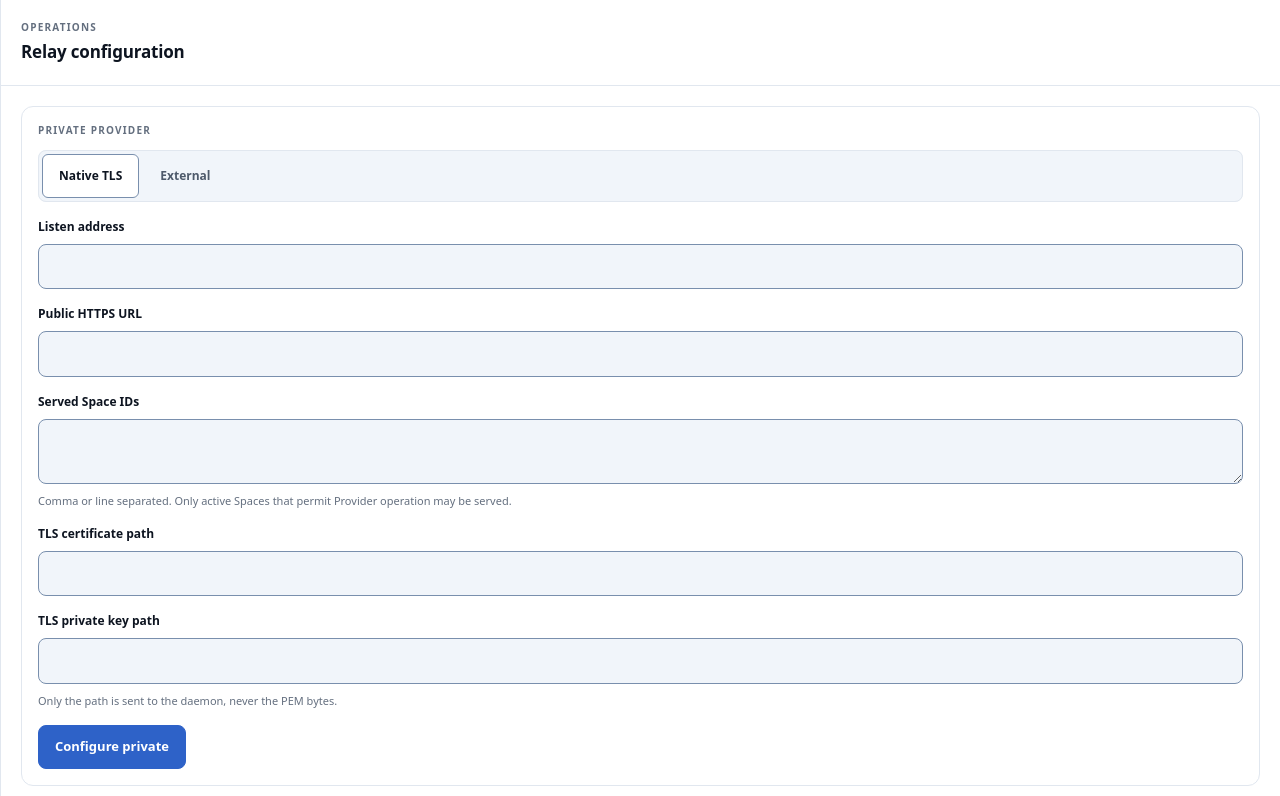
Test case: external termination hides the TLS path fields instead of ignoring them silently
The width and height of the screenshot is (1280, 796).
Expected: the field labelled "TLS private key path" is shown, [38,638,1243,684]
Click the button "External": point(185, 176) [143,154,228,198]
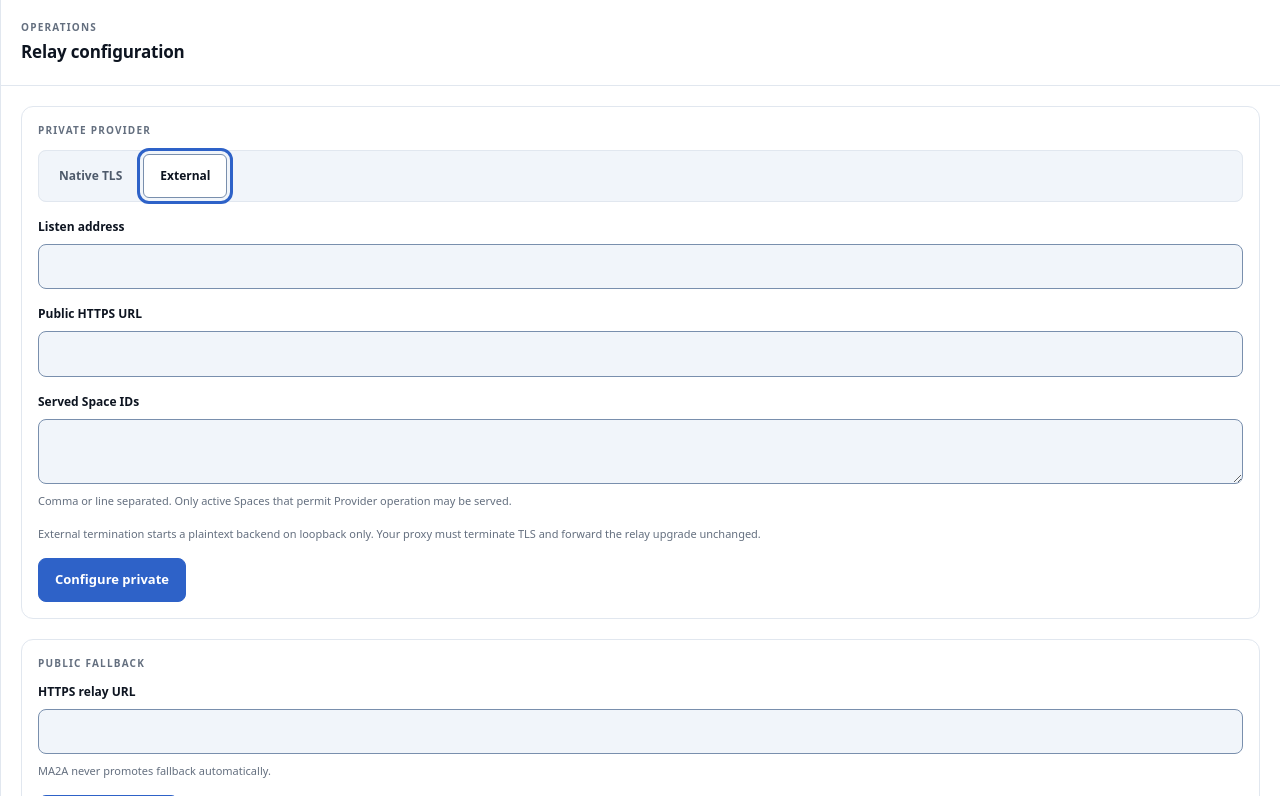
Expected: the label labelled "TLS private key path" is gone
Expected: the text "plaintext backend on loopback only" is shown, [38,526,761,540]
